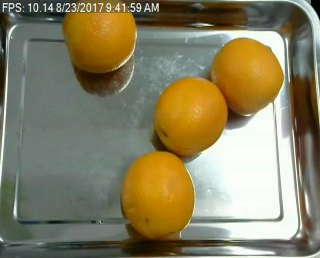Orange: (119, 151, 196, 239), (212, 37, 284, 116), (154, 76, 227, 153), (63, 1, 138, 74)
